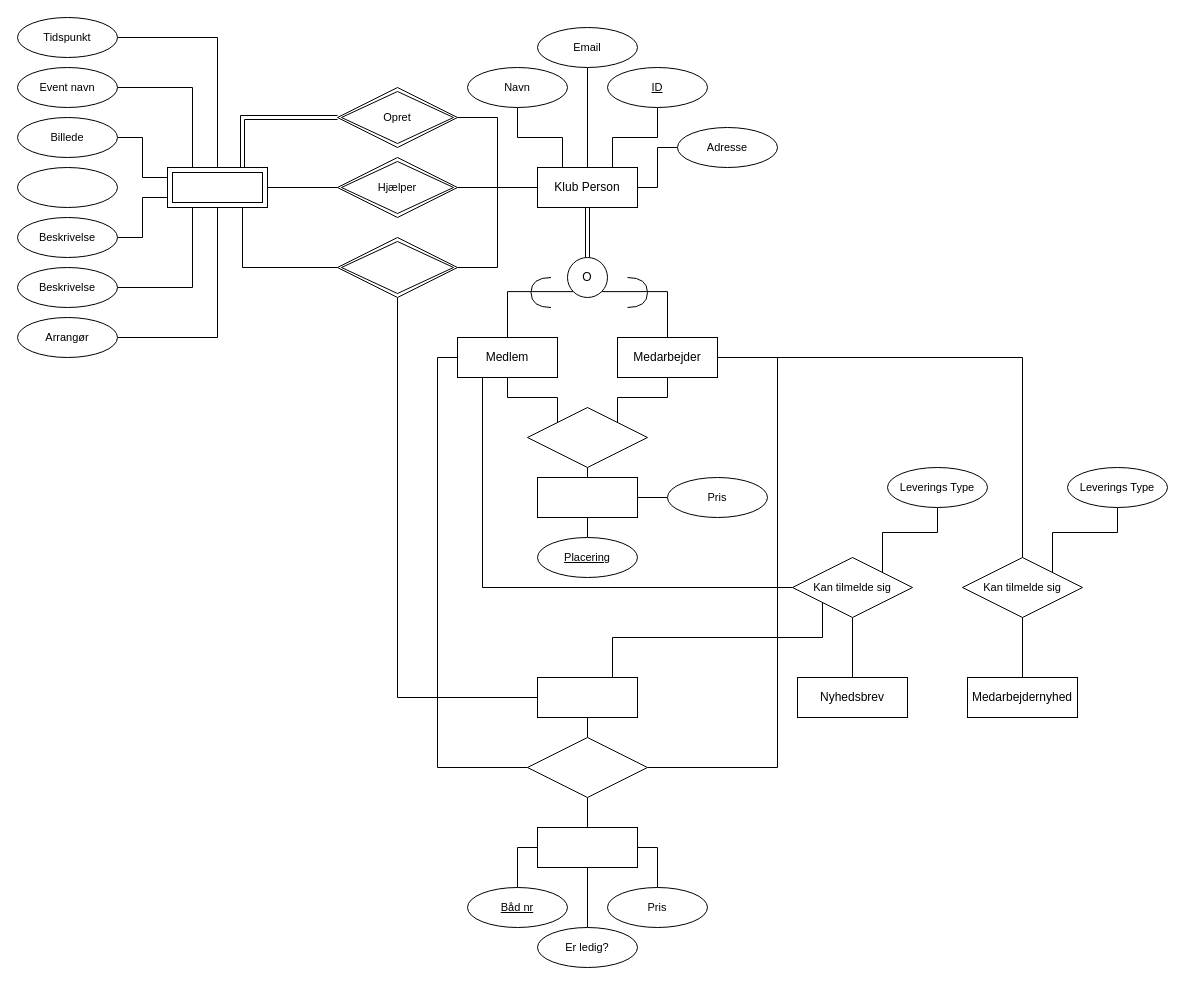
Some shapes in this 1185 by 985 pixel diagram are drawn without their labels. Here are the shapes that lost their labels. From the top down, the centre of each, then its label:
At point 67,187: "Arrangement ID".
At point 217,187: "Arrangementer".
At point 397,267: "Tilmeld".
At point 587,437: "Har en".
At point 587,497: "Bådplads".
At point 587,697: "Ikke-Medlem".
At point 587,767: "Kan leje en".
At point 587,847: "Udlejningsbåd".
